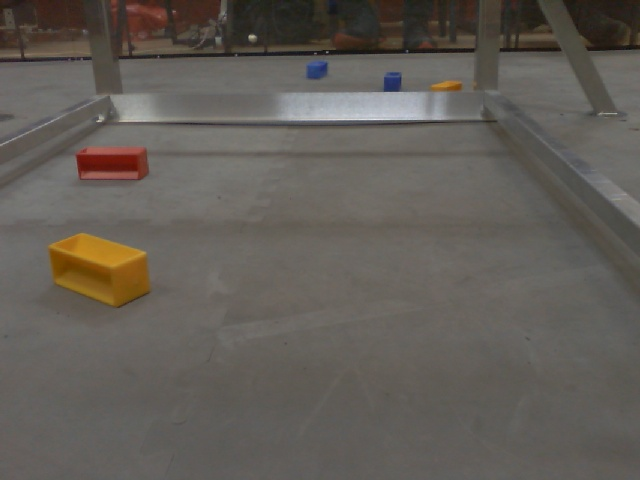BlueSample: (306, 58, 329, 80), (381, 72, 405, 93)
RedSample: (75, 144, 151, 182)
YellowSample: (49, 231, 152, 309), (428, 80, 464, 92)
